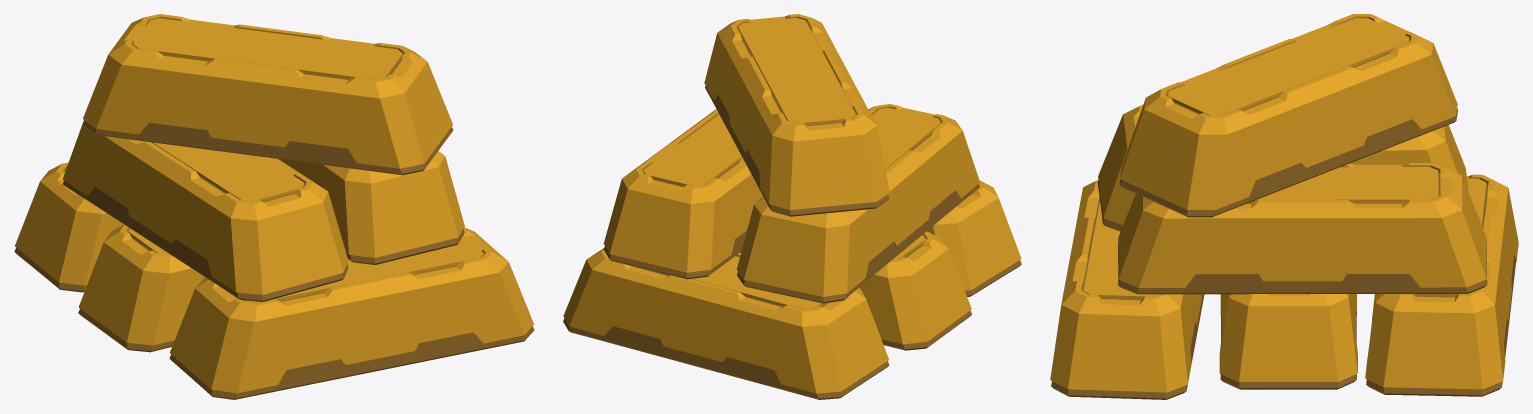
Rendered from SM_Gold_Ingot.fbx.
3 views of the same model, side by side, from view 1: azimuth 30°, elevation 25°; view 2: azimuth 150°, elevation 25°; view 3: azimuth 270°, elevation 25° (orthographic). The views are drawn at different scales.
Visible parts, largest first — view 1: SM_Gold_Ingot; view 2: SM_Gold_Ingot; view 3: SM_Gold_Ingot.
Part boxes in pixels (x1,y1,x2,y2): SM_Gold_Ingot: (14, 14, 534, 399); SM_Gold_Ingot: (563, 14, 1021, 399); SM_Gold_Ingot: (1050, 14, 1518, 399).
Size of the model in its own units: 25.2 by 17.76 by 29.97.
